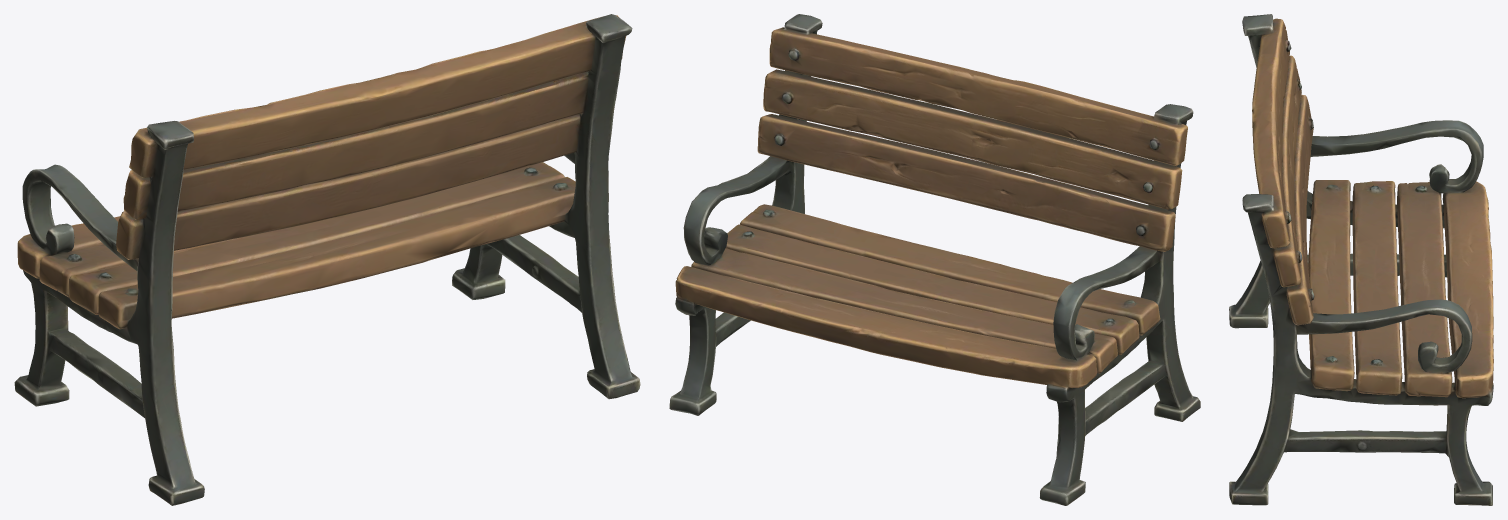
The model's file is banco.glb.
3 views of the same model, side by side, from view 1: azimuth 30°, elevation 25°; view 2: azimuth 150°, elevation 25°; view 3: azimuth 270°, elevation 25° (orthographic). The views are drawn at different scales.
Visible parts, largest first — view 1: tripo_node_196afaab-2566-4f47-bc66-a1f4c0521a2c; view 2: tripo_node_196afaab-2566-4f47-bc66-a1f4c0521a2c; view 3: tripo_node_196afaab-2566-4f47-bc66-a1f4c0521a2c.
Boxes of the visible parts, x1,y1,x2,y2 form: tripo_node_196afaab-2566-4f47-bc66-a1f4c0521a2c: (14,14,640,505); tripo_node_196afaab-2566-4f47-bc66-a1f4c0521a2c: (669,14,1200,505); tripo_node_196afaab-2566-4f47-bc66-a1f4c0521a2c: (1229,14,1493,505).
Bounding box in the file's own units: 1 × 0.7169 × 0.5661.
Materials: 1 (1 with a texture image).
